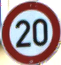20 km speed: (1, 1, 60, 65)
